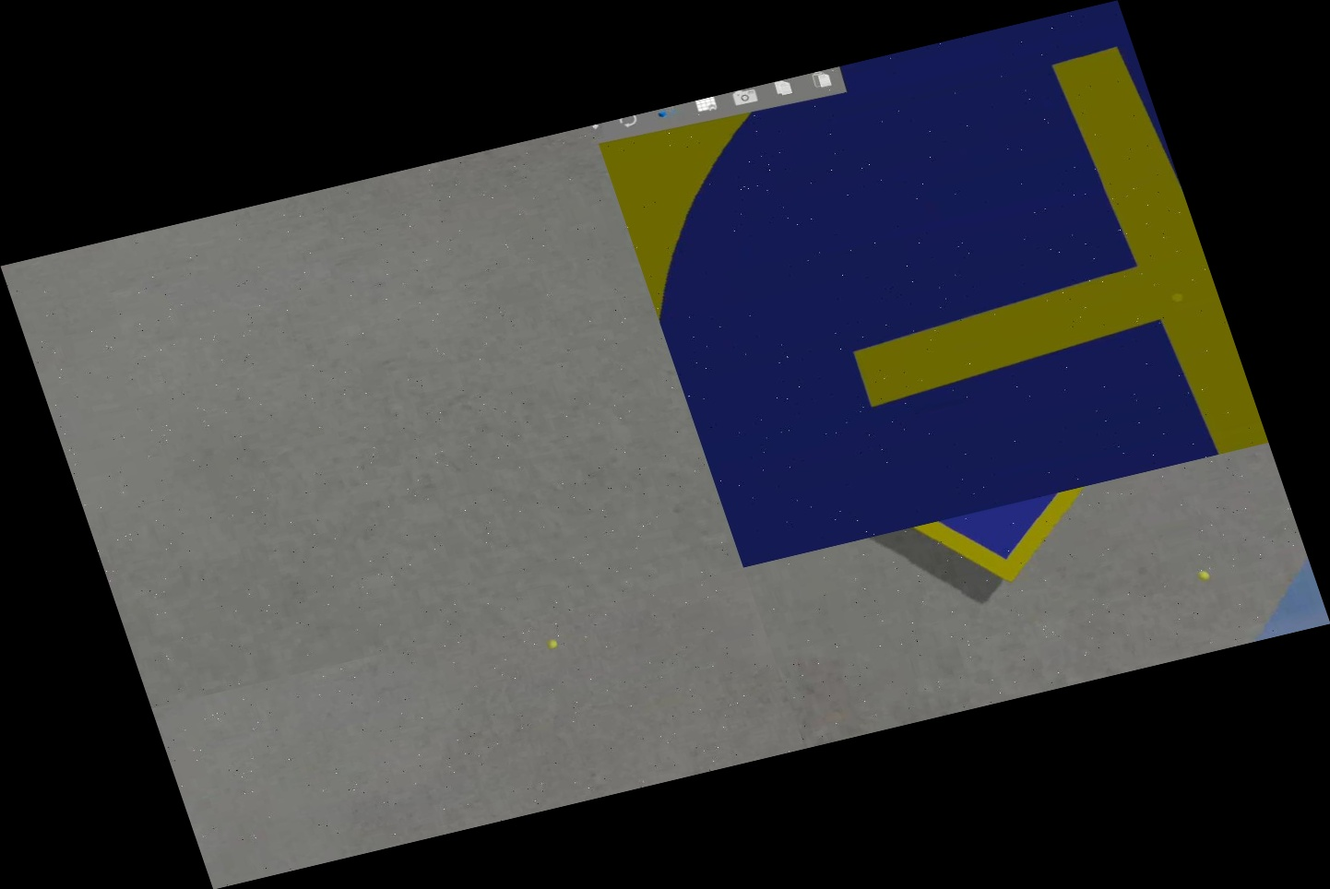large_base: (592, 0, 1268, 567)
small_base: (772, 450, 1263, 638)
